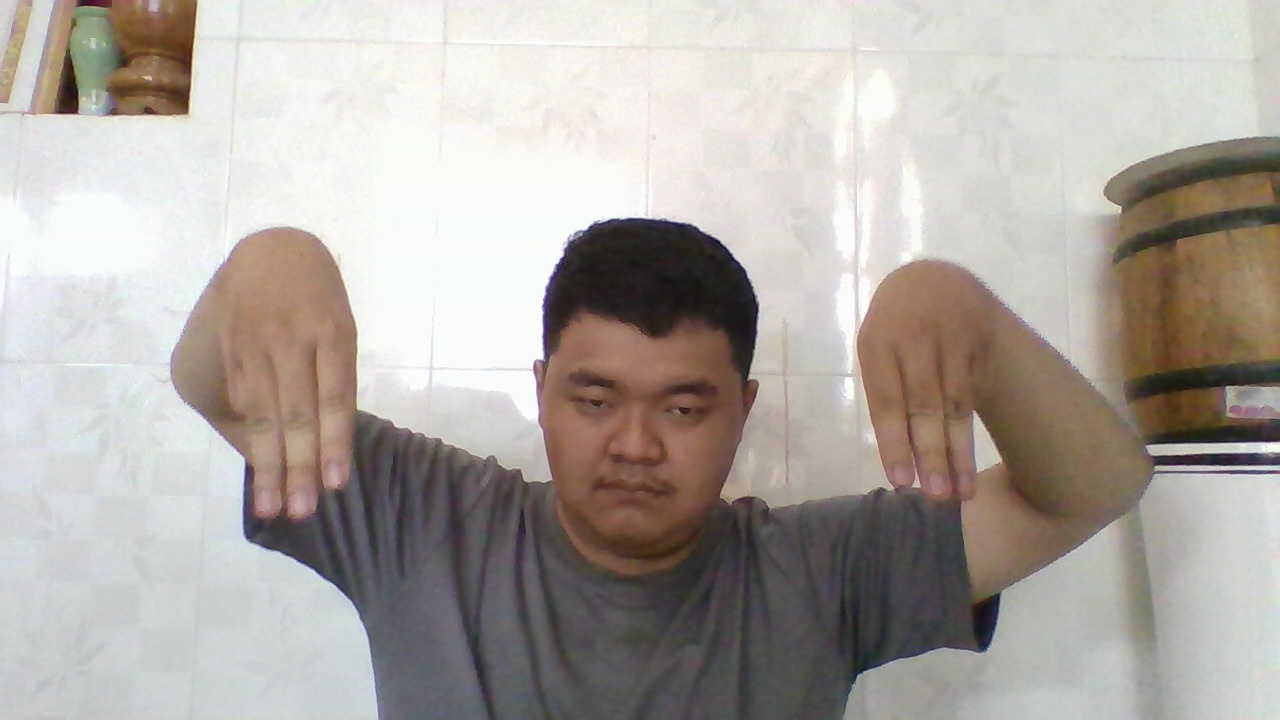M: (193, 228, 359, 532), (856, 250, 998, 508)
